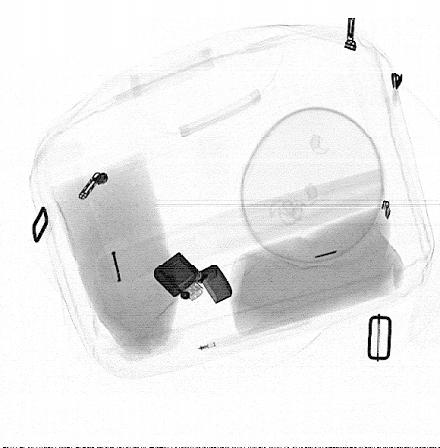Lighter: (153, 252, 233, 305)
